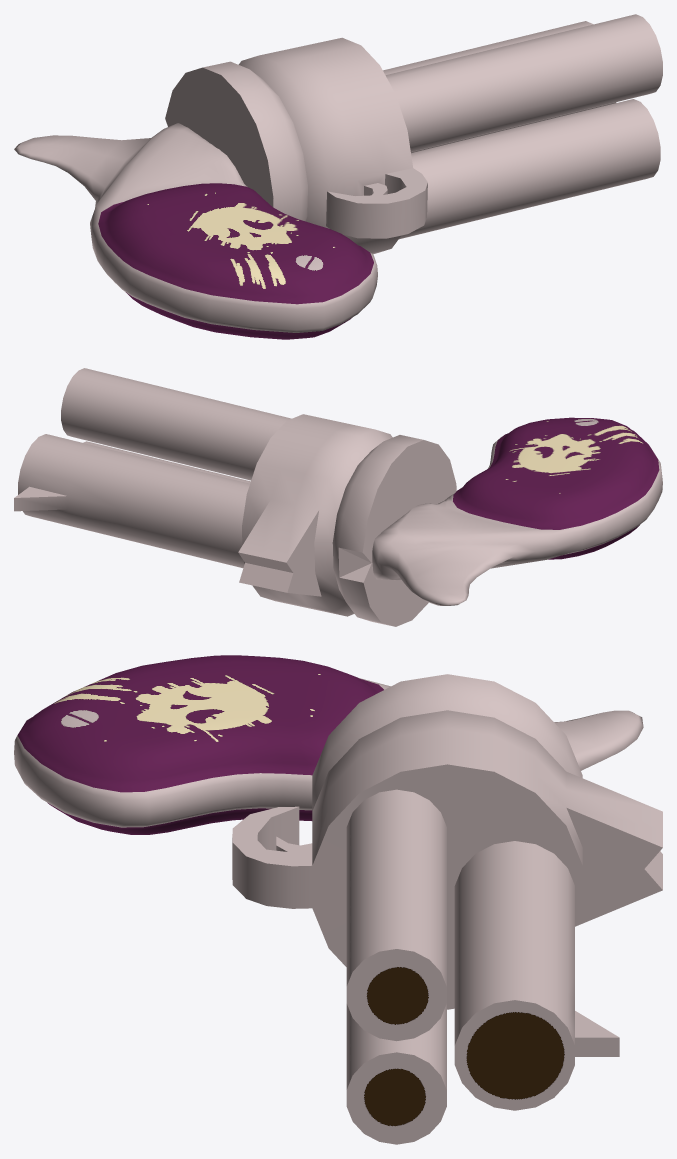
The model's file is Spiny gun.fbx.
3 renders of one model, top to bottom at view 1: azimuth 30°, elevation 25°; view 2: azimuth 150°, elevation 25°; view 3: azimuth 270°, elevation 25°, orthographic. The views are drawn at different scales.
Parts seen in each view (by area): view 1: Cylinder023; view 2: Cylinder023; view 3: Cylinder023.
Part boxes in pixels (left/top/right/bottom): Cylinder023: left=14, top=14, right=662, bottom=339; Cylinder023: left=14, top=368, right=662, bottom=626; Cylinder023: left=14, top=655, right=662, bottom=1144.
Bounding box in the file's own units: 82.91 × 27.51 × 63.69.
